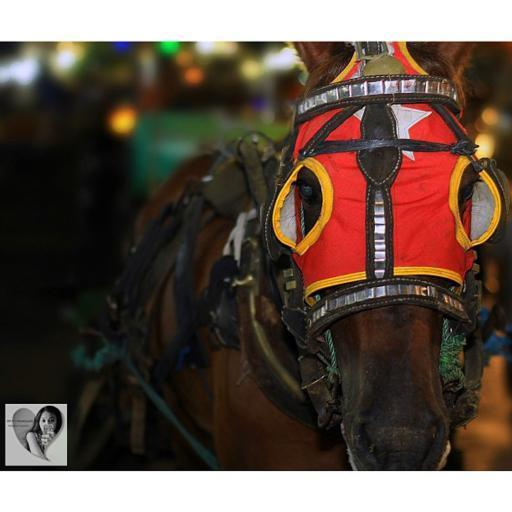horse: (128, 42, 488, 476)
